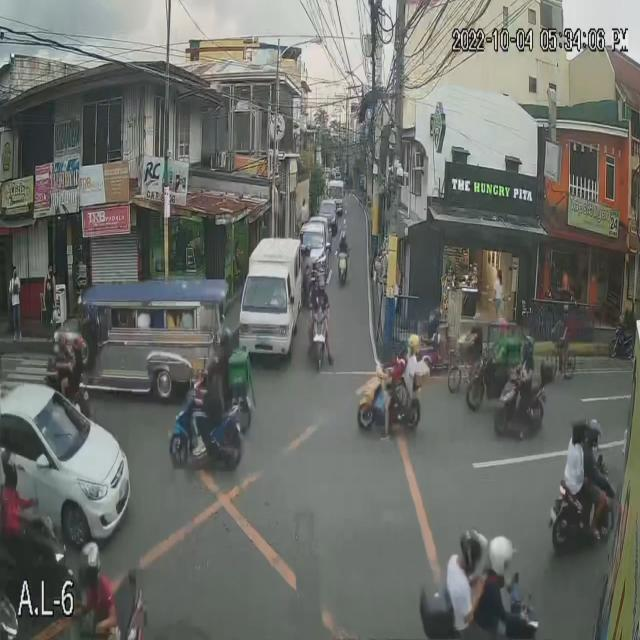full: (486, 528, 518, 588)
half: (462, 524, 488, 578), (587, 418, 602, 449), (406, 335, 420, 357)
